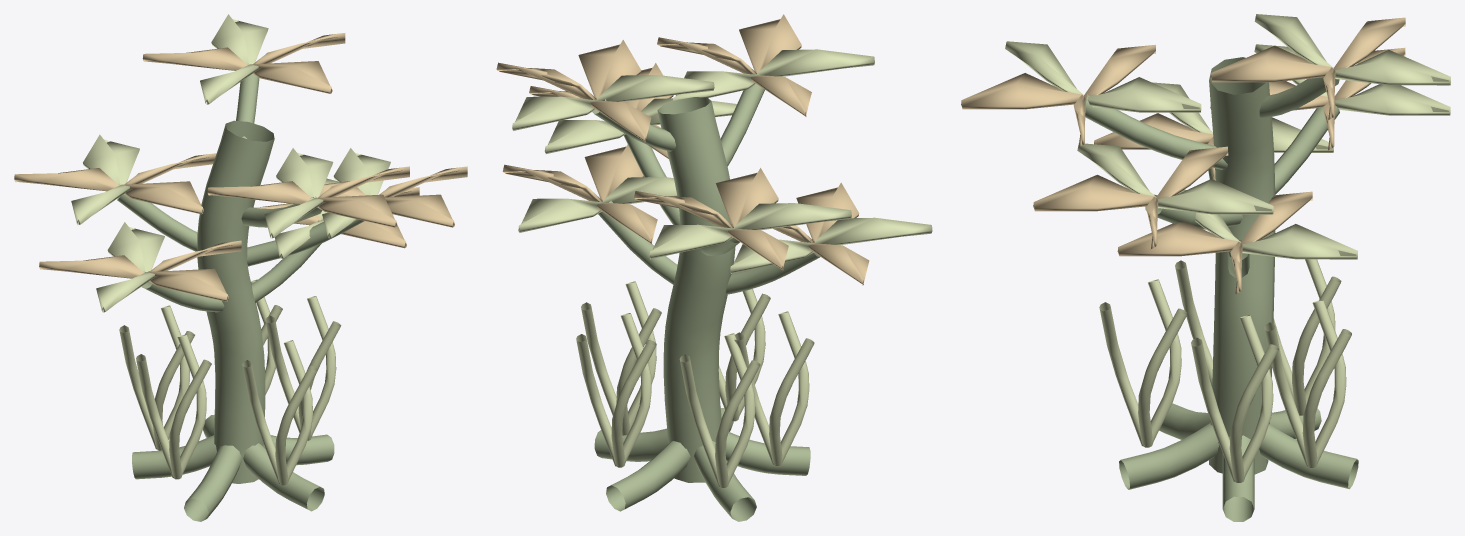
The model's file is bio_canopy_tree_04_far.glb.
The picture shows the model from 3 angles, left to right: view 1: azimuth 30°, elevation 25°; view 2: azimuth 150°, elevation 25°; view 3: azimuth 270°, elevation 25°; orthographic projection. The views are drawn at different scales.
Parts seen in each view (by area): view 1: Buttressed trunk, Broad canopy leaf.020, Broad canopy leaf.015, Broad canopy leaf.010, Broad canopy leaf.005, Spiral filament.012, Spiral filament.006, Spiral filament, Spiral filament.003, Broad canopy leaf.011, Broad canopy leaf.016, Broad canopy leaf.025 (+6 smaller); view 2: Buttressed trunk, Broad canopy leaf.015, Broad canopy leaf.005, Broad canopy leaf.010, Broad canopy leaf, Spiral filament.009, Spiral filament.003, Broad canopy leaf.016, Broad canopy leaf.006, Spiral filament.012, Broad canopy leaf.011, Broad canopy leaf.021 (+6 smaller); view 3: Buttressed trunk, Spiral filament.006, Spiral filament, Spiral filament.009, Broad canopy leaf.015, Broad canopy leaf.025, Broad canopy leaf.010, Broad canopy leaf, Broad canopy leaf.016, Broad canopy leaf.026, Broad canopy leaf.011, Broad canopy leaf.001 (+6 smaller).
Part boxes in pixels (left/top/right/bottom): Buttressed trunk: left=117, top=74, right=364, bottom=521; Broad canopy leaf.020: left=39, top=240, right=241, bottom=301; Broad canopy leaf.015: left=142, top=33, right=345, bottom=93; Broad canopy leaf.010: left=207, top=166, right=409, bottom=227; Broad canopy leaf.005: left=14, top=153, right=216, bottom=214; Spiral filament.012: left=136, top=334, right=211, bottom=479; Spiral filament.006: left=242, top=340, right=317, bottom=485; Spiral filament: left=265, top=296, right=341, bottom=440; Spiral filament.003: left=119, top=305, right=194, bottom=450; Broad canopy leaf.011: left=264, top=148, right=333, bottom=238; Broad canopy leaf.016: left=200, top=14, right=268, bottom=104; Broad canopy leaf.025: left=320, top=166, right=467, bottom=227; Buttressed trunk: left=592, top=73, right=820, bottom=521; Broad canopy leaf.015: left=496, top=40, right=651, bottom=142; Broad canopy leaf.005: left=634, top=168, right=788, bottom=270; Broad canopy leaf.010: left=657, top=14, right=811, bottom=116; Broad canopy leaf: left=502, top=144, right=657, bottom=244; Spiral filament.009: left=576, top=313, right=656, bottom=467; Spiral filament.003: left=679, top=333, right=760, bottom=487; Broad canopy leaf.016: left=512, top=75, right=714, bottom=130; Broad canopy leaf.006: left=649, top=203, right=851, bottom=259; Spiral filament.012: left=734, top=311, right=814, bottom=465; Broad canopy leaf.011: left=672, top=49, right=874, bottom=101; Broad canopy leaf.021: left=730, top=217, right=932, bottom=273; Buttressed trunk: left=1085, top=57, right=1358, bottom=521; Spiral filament.006: left=1099, top=279, right=1187, bottom=447; Spiral filament: left=1191, top=315, right=1278, bottom=482; Spiral filament.009: left=1264, top=299, right=1351, bottom=467; Broad canopy leaf.015: left=1210, top=17, right=1405, bottom=119; Broad canopy leaf.025: left=1033, top=146, right=1228, bottom=249; Broad canopy leaf.010: left=961, top=44, right=1155, bottom=147; Broad canopy leaf: left=1117, top=191, right=1312, bottom=293; Broad canopy leaf.016: left=1254, top=14, right=1450, bottom=85; Broad canopy leaf.026: left=1077, top=143, right=1273, bottom=214; Broad canopy leaf.011: left=1005, top=41, right=1201, bottom=112; Broad canopy leaf.001: left=1177, top=189, right=1357, bottom=259.
Size of the model in its own units: 2.97 by 2.99 by 2.93.
